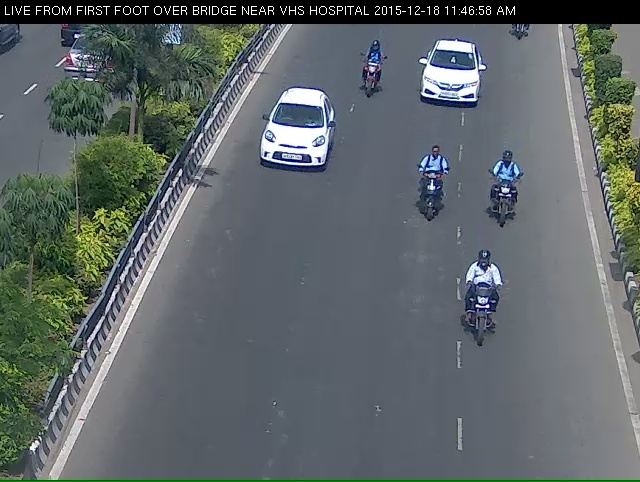Car: (248, 100, 333, 202), (416, 34, 488, 124)
Person: (462, 276, 503, 387), (416, 148, 454, 248), (490, 158, 522, 246), (357, 51, 383, 111)
